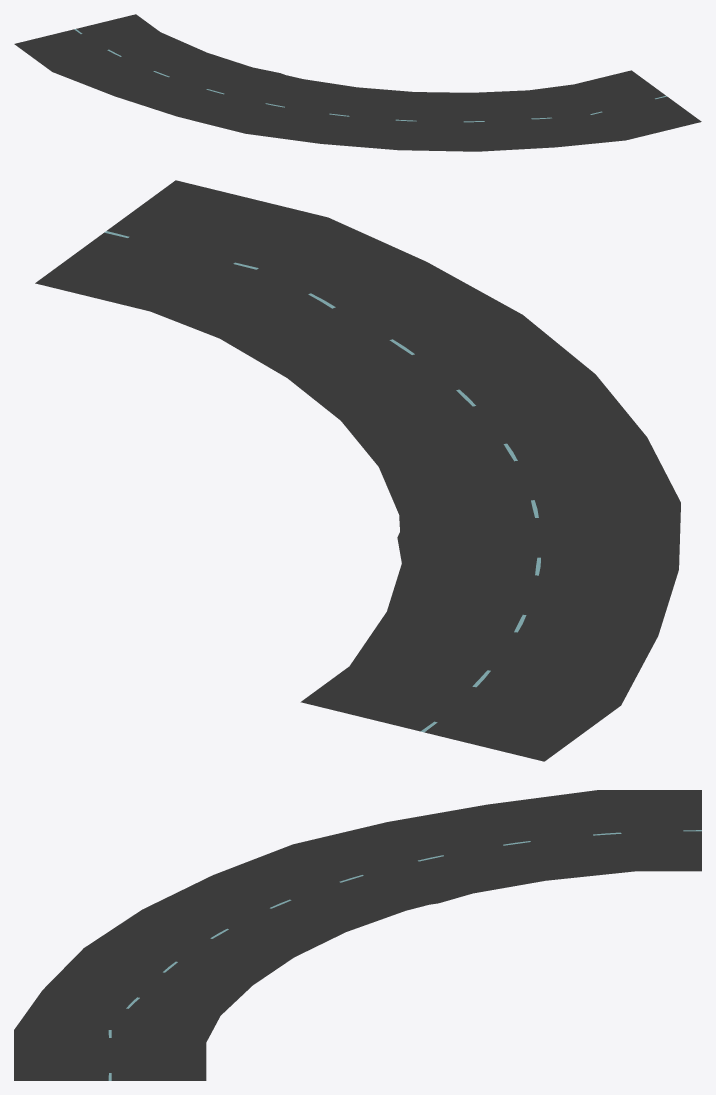
Rendered from model_road_corner_2_.fbx.
3 renders of one model, top to bottom at view 1: azimuth 30°, elevation 25°; view 2: azimuth 150°, elevation 25°; view 3: azimuth 270°, elevation 25°, orthographic. The views are drawn at different scales.
Parts seen in each view (by area): view 1: model_road_dirt_cornor_2.001; view 2: model_road_dirt_cornor_2.001; view 3: model_road_dirt_cornor_2.001.
Part boxes in pixels (x1,y1,x2,y2): model_road_dirt_cornor_2.001: [14, 14, 701, 151]; model_road_dirt_cornor_2.001: [35, 180, 680, 761]; model_road_dirt_cornor_2.001: [14, 790, 701, 1080].
Size of the model in its own units: 0.3582 by 0.3582 by 5.84e-08.
